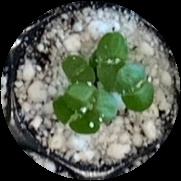Basil: (69, 82, 120, 120), (53, 93, 99, 133), (121, 61, 153, 111), (97, 34, 126, 86), (63, 57, 99, 88)
